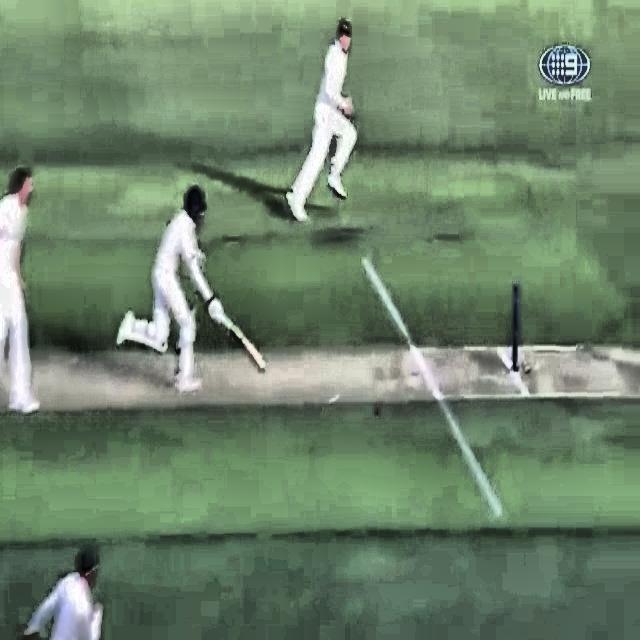Bat: (202, 296, 269, 375)
Pitch_Line: (359, 255, 505, 519)
Undis_Wicket: (502, 285, 528, 374)
